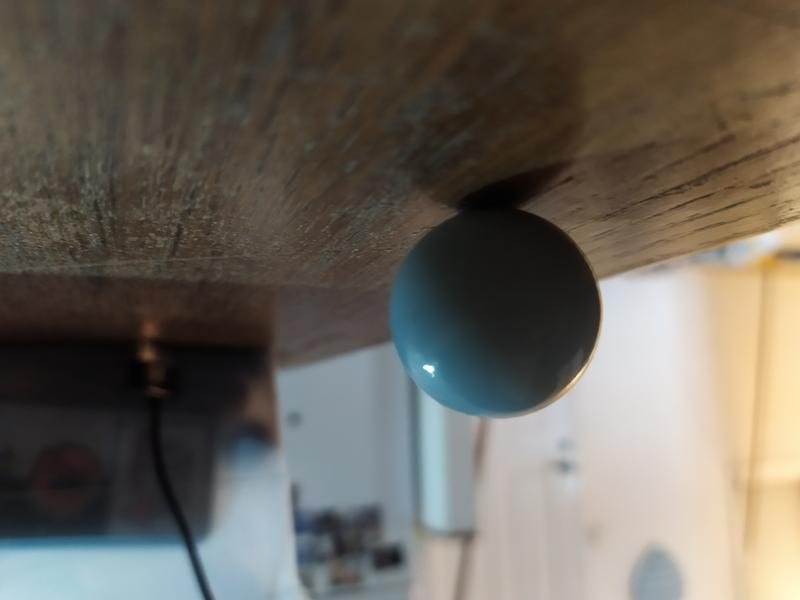Warning: (382, 201, 607, 423)
